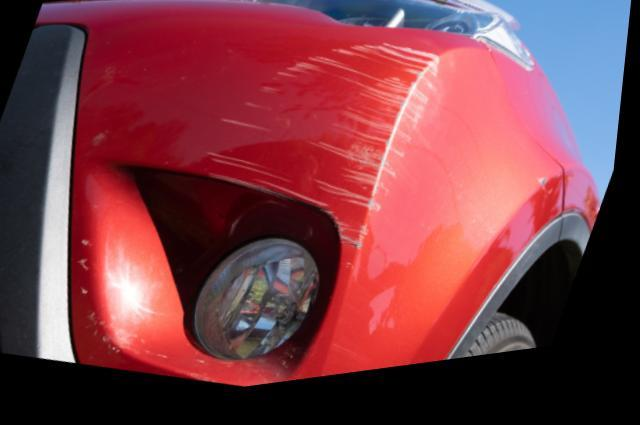scratch: (201, 49, 444, 261)
